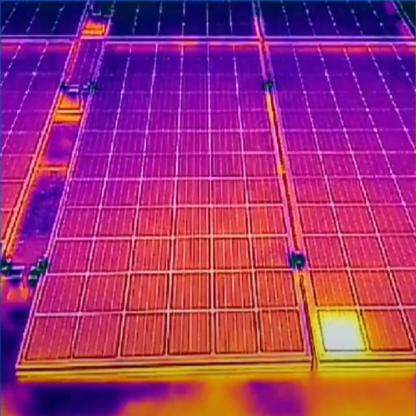anomaly: (312, 303, 375, 370)
